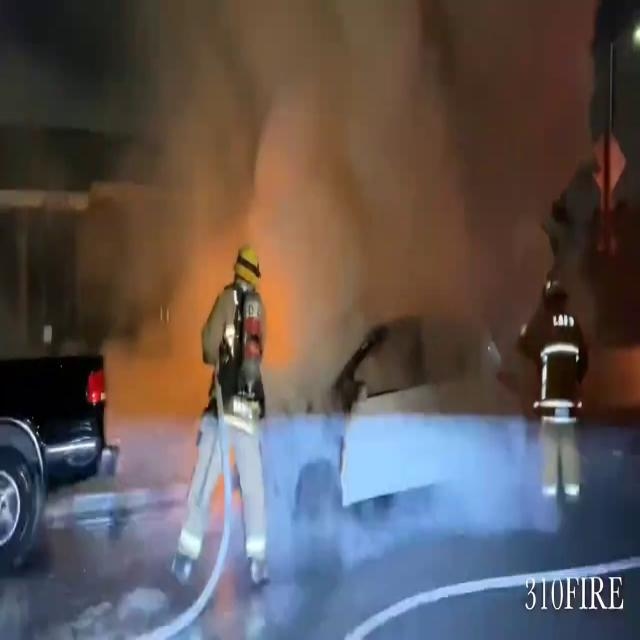Smoke: (73, 0, 610, 428)
